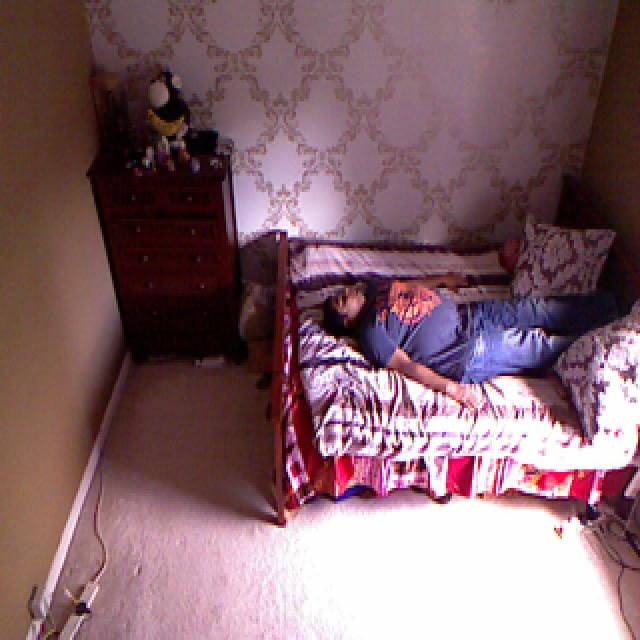lying: (312, 267, 640, 406)
